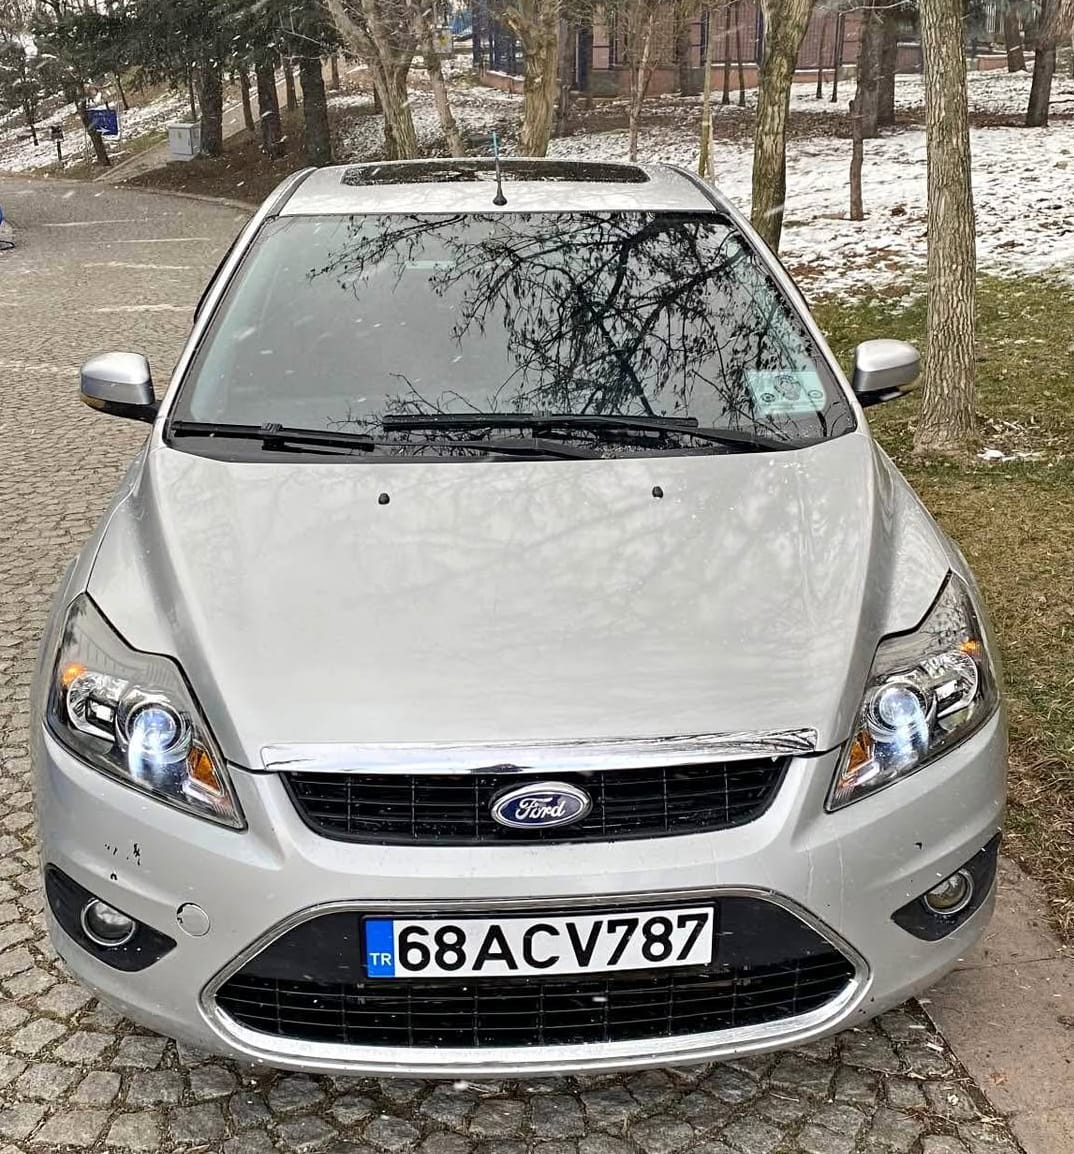plaka: (387, 906, 712, 976)
